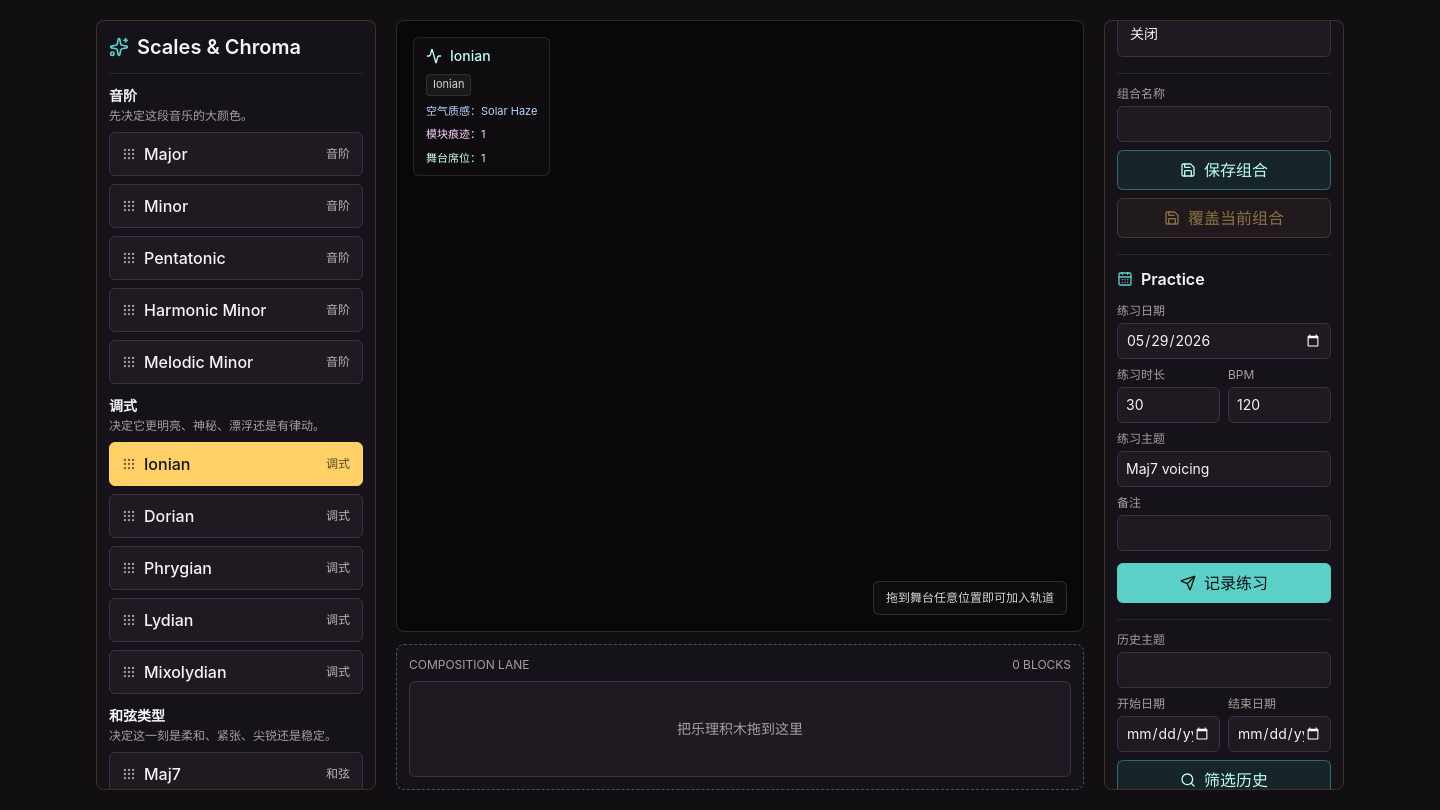
Test: TheorySandbox › refreshes sandbox visuals after practice unlocks a new effect
The image size is (1440, 810).
(page scrolled)
Expected: the text "关闭" is shown, [1130,24,1158,44]
Replace the text in the number field labelled "练习时长" with "610" at (1168, 404), box [1117,386,1220,422]
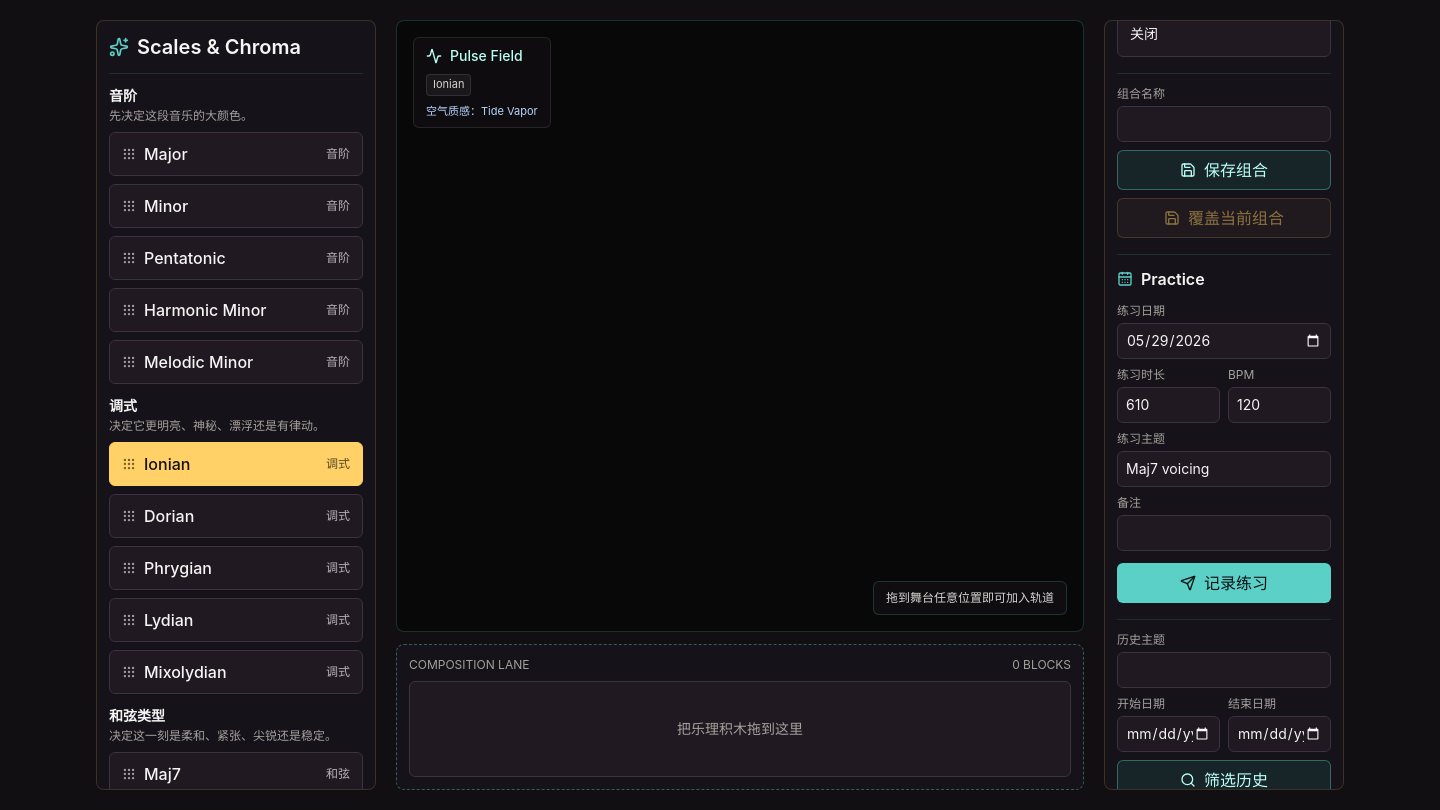
Replace the text in the number field labelled "BPM" with "150" at (1280, 404), box [1228,386,1331,422]
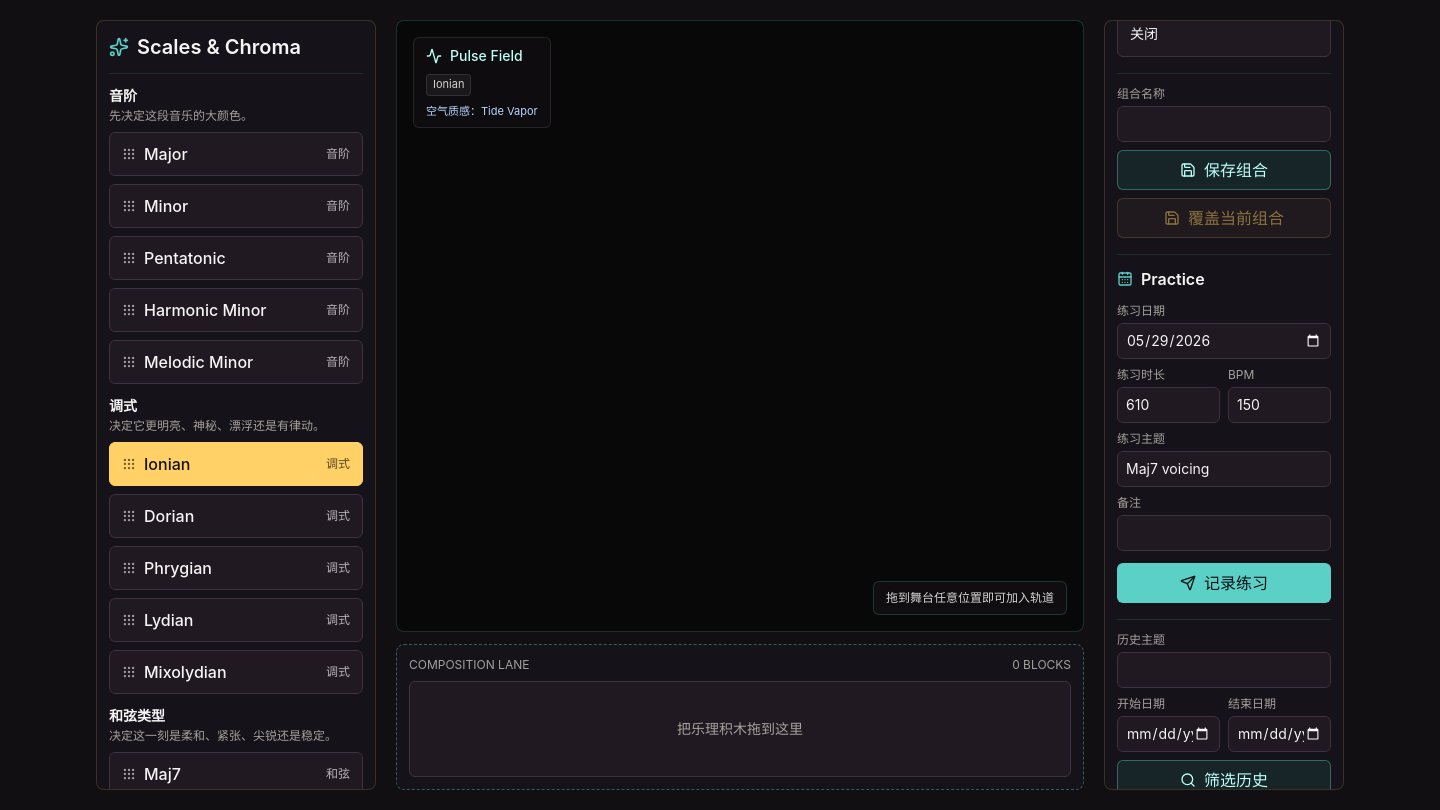
Replace the text in the field labelled "练习主题" with "Pentatonic speed run" at (1224, 468), box [1117,450,1331,486]
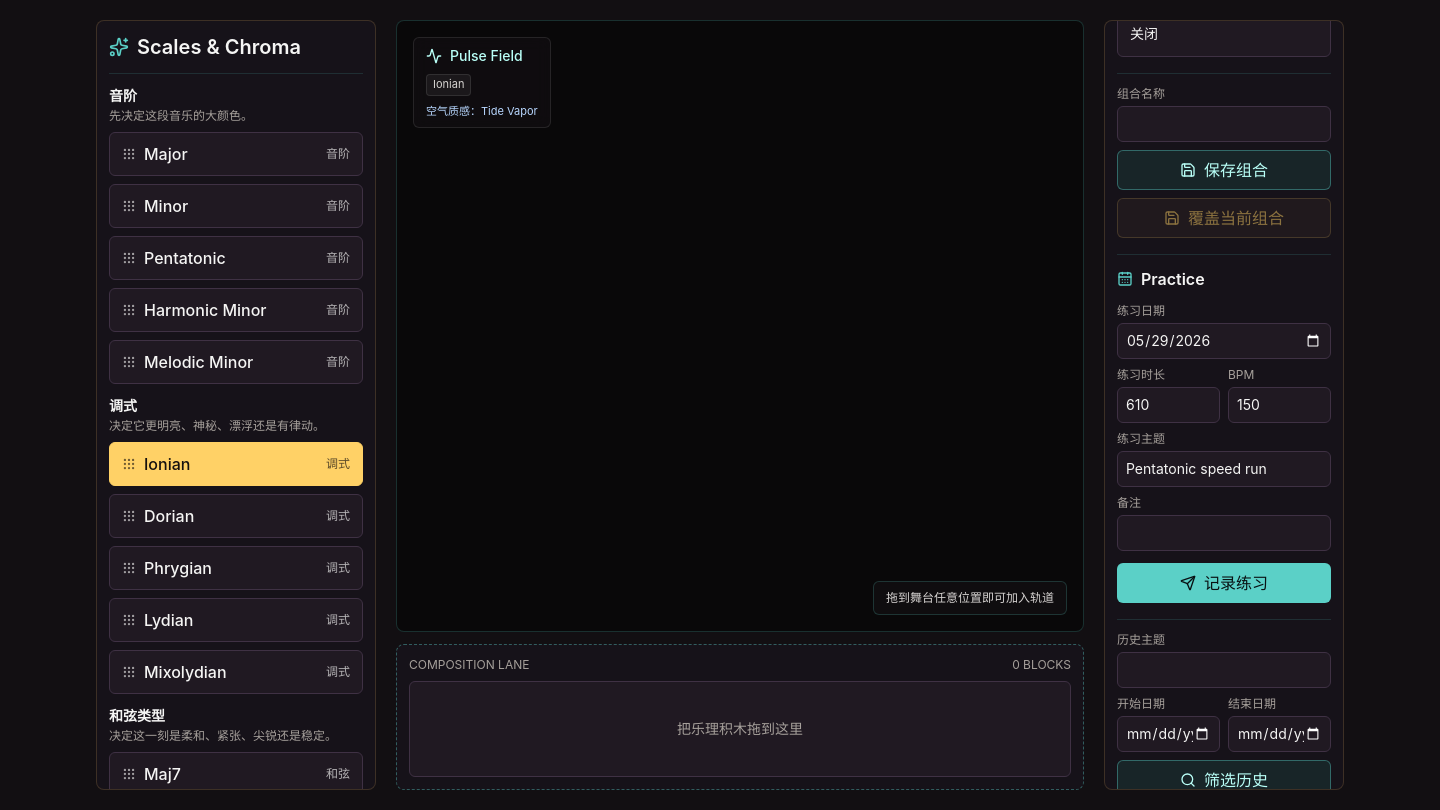
Click the button "记录练习" at (1224, 582), box [1117,562,1331,602]
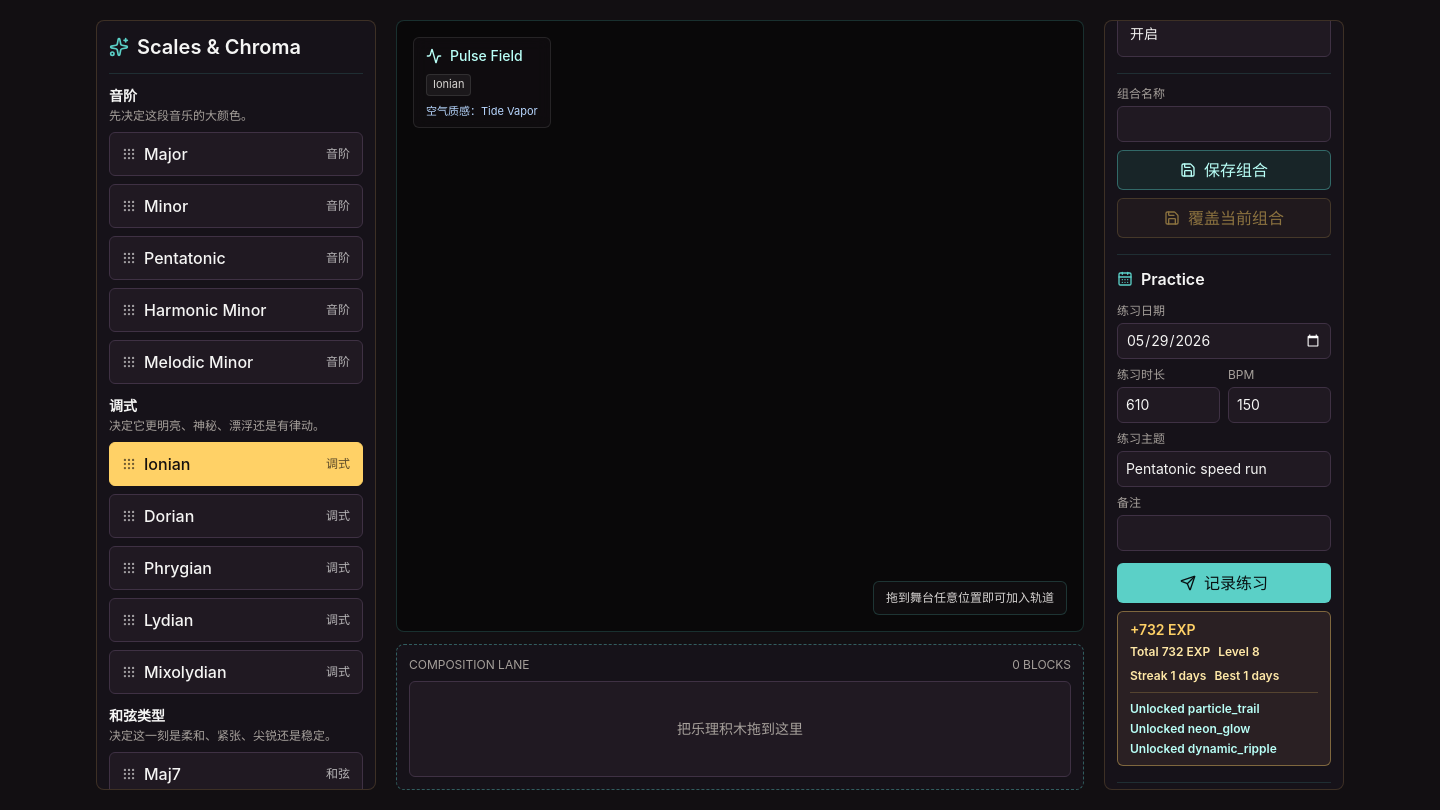
Expected: the text "开启" is shown, [1130,24,1158,44]
Expected: the text "Unlocked particle_trail" is shown, [1130,700,1260,716]
Expected: the text "Unlocked neon_glow" is shown, [1130,720,1250,736]
